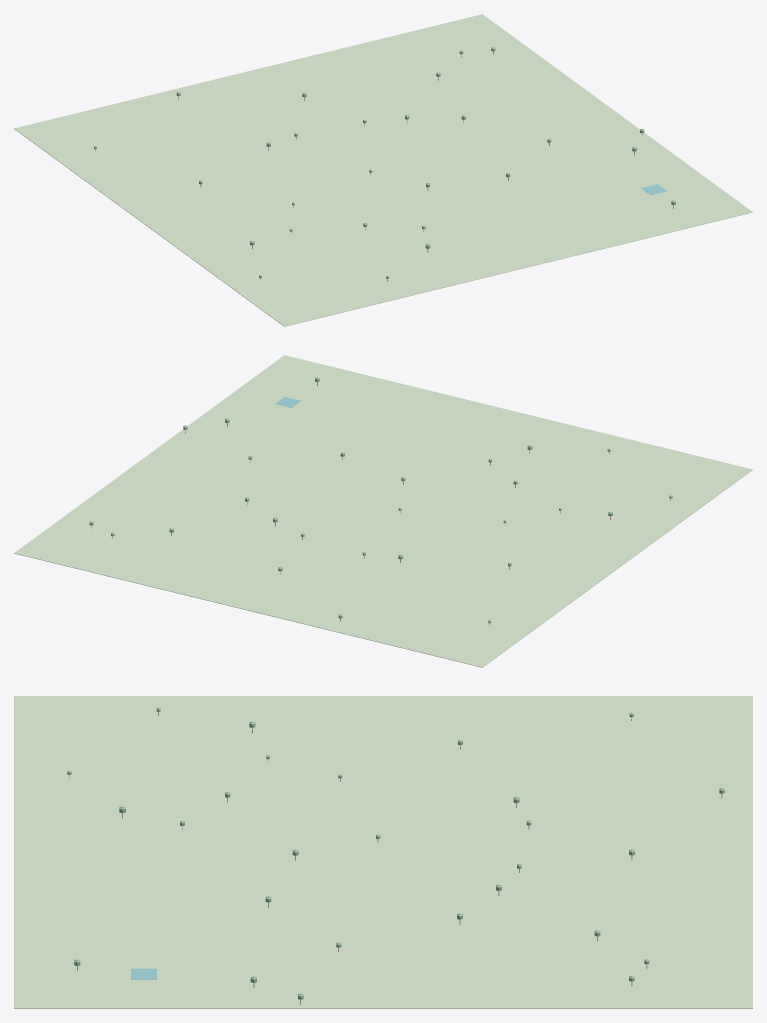
File: chunk_6_3_low.glb
3 renders of one model, top to bottom at view 1: azimuth 30°, elevation 25°; view 2: azimuth 150°, elevation 25°; view 3: azimuth 270°, elevation 25°, orthographic. The views are drawn at different scales.
Visible parts, largest first — view 1: city_grass; view 2: city_grass, city_foliage_dark; view 3: city_grass, city_foliage_dark.
Boxes of the visible parts, x1,y1,x2,y2 form: city_grass: (14, 14, 752, 326); city_grass: (14, 355, 752, 667); city_foliage_dark: (89, 377, 672, 623); city_grass: (14, 696, 752, 1008); city_foliage_dark: (67, 707, 724, 999).
Bounding box in the file's own units: 512 × 9.53 × 512.
